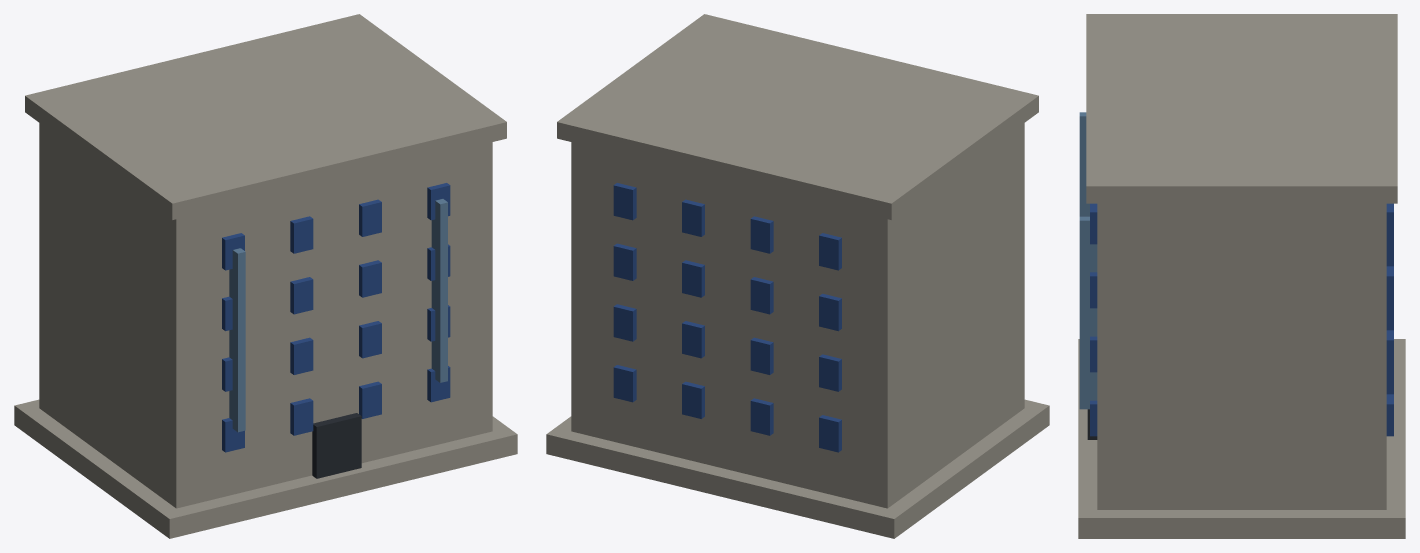
The model's file is bld_residential_a06.glb.
3 views of the same model, side by side, from view 1: azimuth 30°, elevation 25°; view 2: azimuth 150°, elevation 25°; view 3: azimuth 270°, elevation 25° (orthographic). The views are drawn at different scales.
Visible parts, largest first — view 1: body; view 2: body; view 3: body.
Part boxes in pixels (left/top/right/bottom): body: left=14, top=14, right=517, bottom=538; body: left=546, top=14, right=1049, bottom=538; body: left=1078, top=14, right=1405, bottom=538.
Size of what is drawn, in the model's own units: 6.6 by 6 by 5.1.
